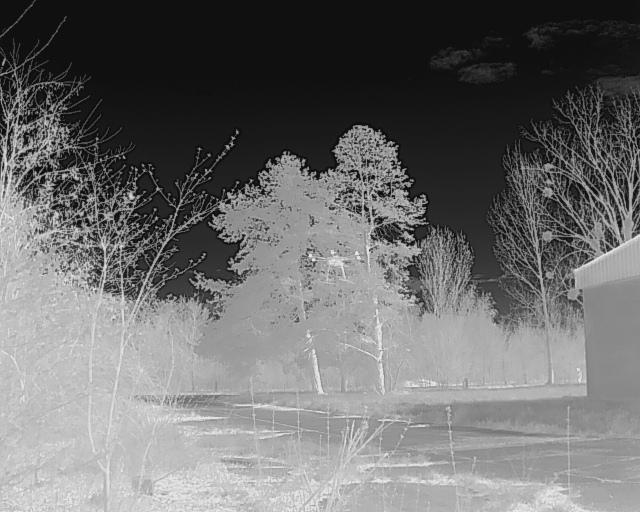drone: (303, 245, 368, 286)
